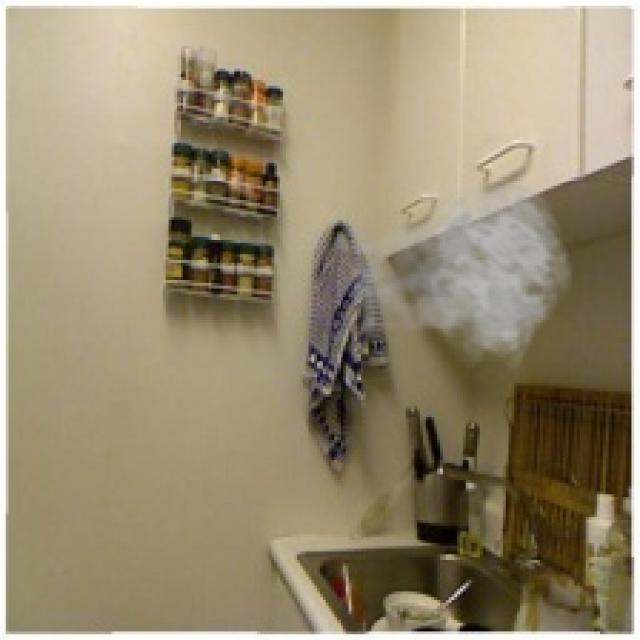Smoke: (332, 174, 574, 374)
